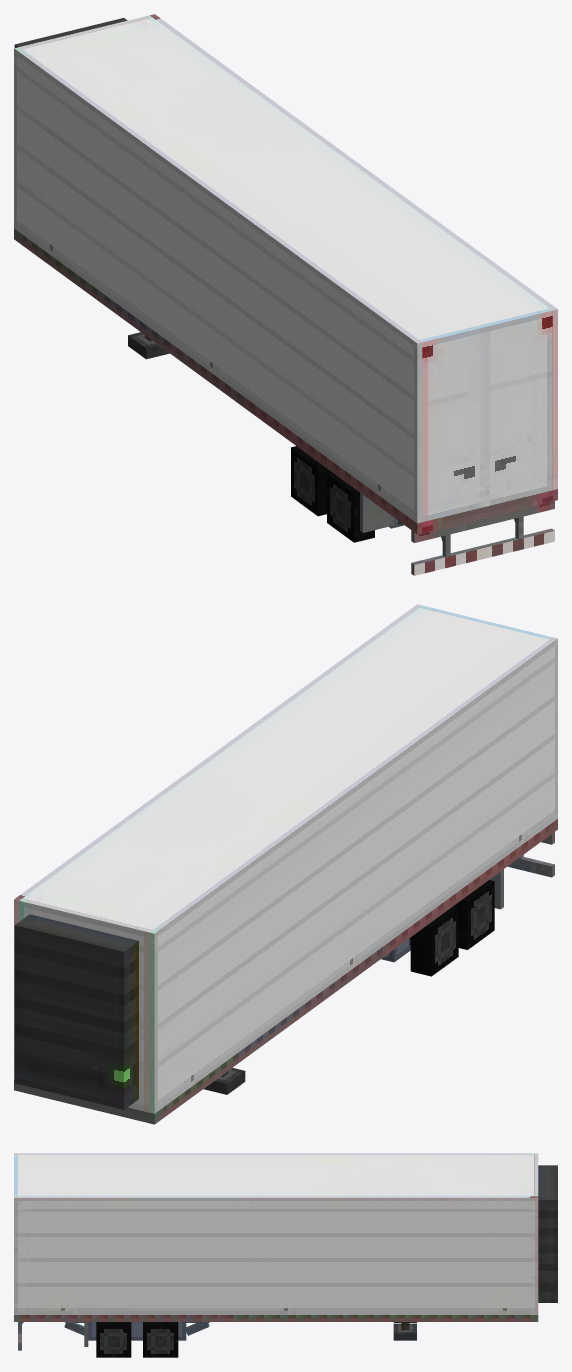
File: reefer-trailer.lod0.glb
3 renders of one model, top to bottom at view 1: azimuth 30°, elevation 25°; view 2: azimuth 150°, elevation 25°; view 3: azimuth 270°, elevation 25°, orthographic. The views are drawn at different scales.
Visible parts, largest first — view 1: Object_5; view 2: Object_5; view 3: Object_5.
Boxes of the visible parts, x1=… form: Object_5: x1=14, y1=14, x2=557, y2=575; Object_5: x1=14, y1=604, x2=557, y2=1124; Object_5: x1=14, y1=1153, x2=557, y2=1357.
Bounding box in the file's own units: 2.62 × 4.37 × 13.5.
1 material, 1 textured.
